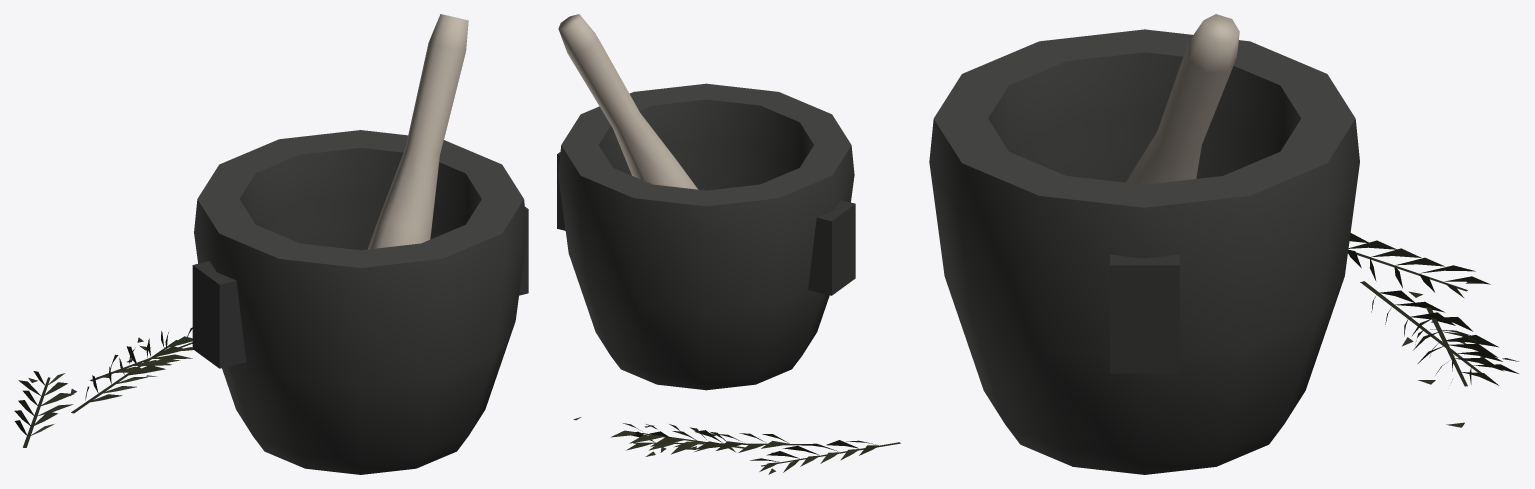
Rendered from prop_mortar.glb.
3 renders of one model, left to right at view 1: azimuth 30°, elevation 25°; view 2: azimuth 150°, elevation 25°; view 3: azimuth 270°, elevation 25°, orthographic. The views are drawn at different scales.
Parts seen in each view (by area): view 1: MortarSoft, Mortar; view 2: MortarSoft, Mortar; view 3: MortarSoft, Mortar.
Part boxes in pixels (bbox=[...]): MortarSoft: bbox=[194, 14, 527, 474]; Mortar: bbox=[14, 207, 528, 447]; MortarSoft: bbox=[558, 14, 854, 390]; Mortar: bbox=[557, 152, 900, 474]; MortarSoft: bbox=[929, 14, 1359, 474]; Mortar: bbox=[1110, 233, 1519, 427].
Size of the model in its own units: 0.2969 by 0.2391 by 0.2718.
